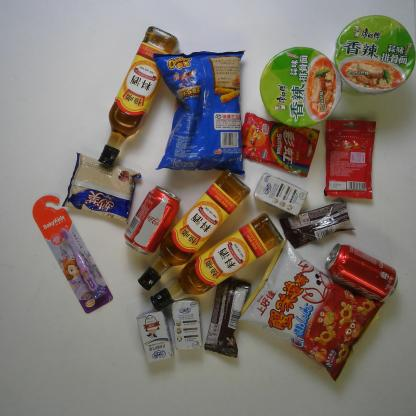Candy: (240, 111, 322, 179), (322, 117, 378, 200)
Chocolate: (201, 276, 254, 360), (278, 199, 359, 251)
Dessert: (59, 150, 144, 228)
Drink: (324, 241, 400, 303), (124, 184, 182, 258)
Instant Noodles: (257, 44, 343, 132), (332, 12, 416, 98)
Milk: (251, 170, 311, 216), (136, 307, 176, 367), (168, 297, 205, 353)
Personal Hygiene: (30, 194, 115, 316)
Puffed Food: (235, 233, 386, 382), (151, 47, 247, 178)
Seasoner: (134, 172, 252, 293), (149, 210, 288, 312), (99, 24, 181, 168)
